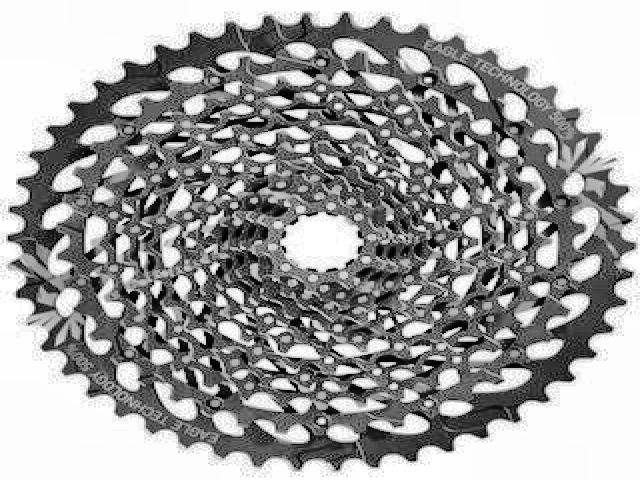cassette: (10, 12, 637, 474)
